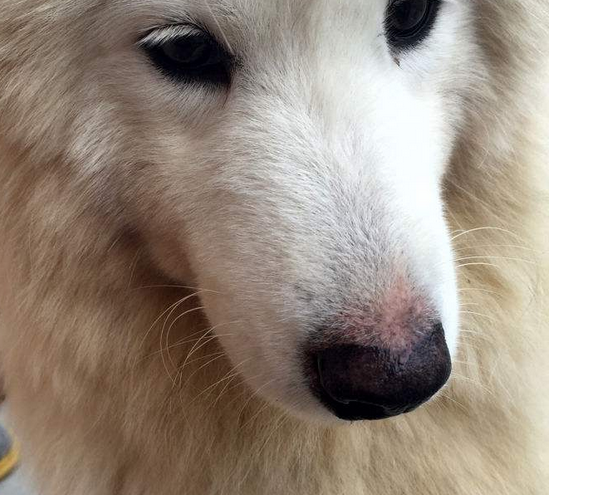nose: (298, 302, 467, 444)
